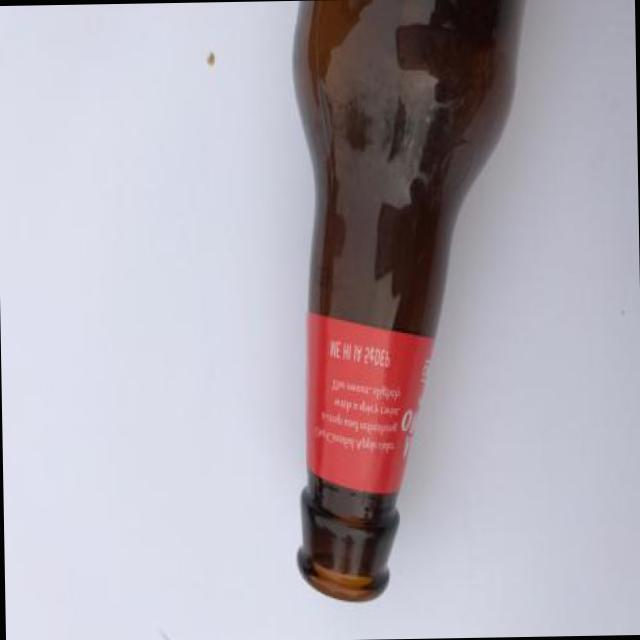chai_thuy_tinh: (294, 0, 524, 603)
